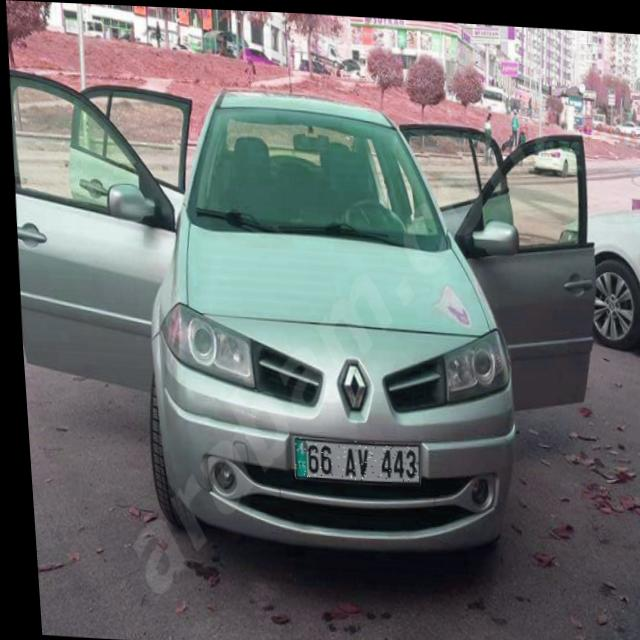license_plate: (287, 434, 415, 480)
